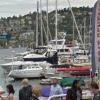Boat: (4, 48, 97, 89)
